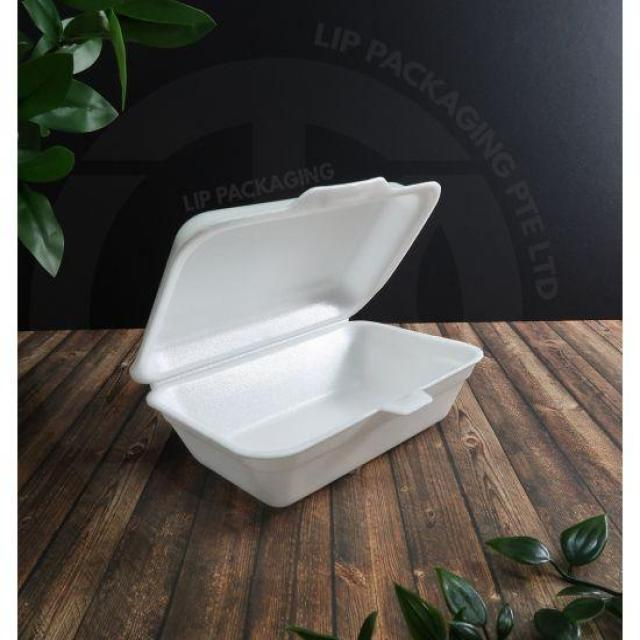styrofoam: (128, 174, 484, 508)
